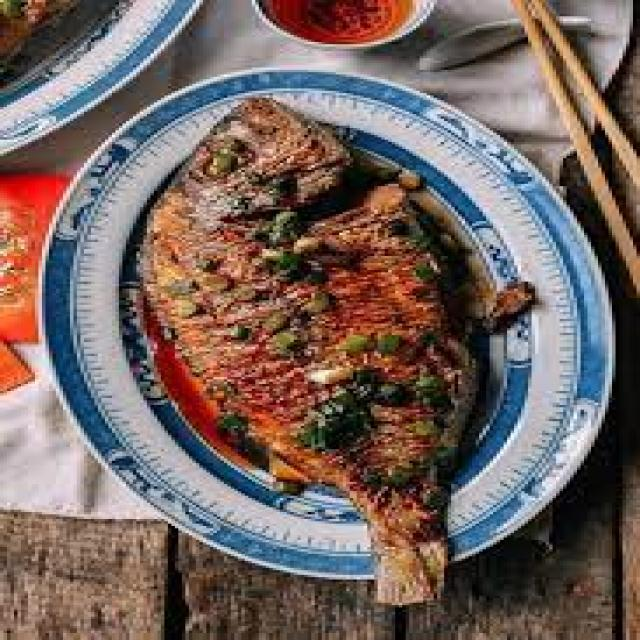Peixe: (133, 93, 535, 605)
